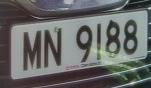1: (93, 18, 106, 65)
8: (120, 13, 142, 58), (104, 15, 123, 63)
9: (73, 20, 95, 68)
M: (20, 28, 44, 73)
N: (42, 25, 66, 71)
